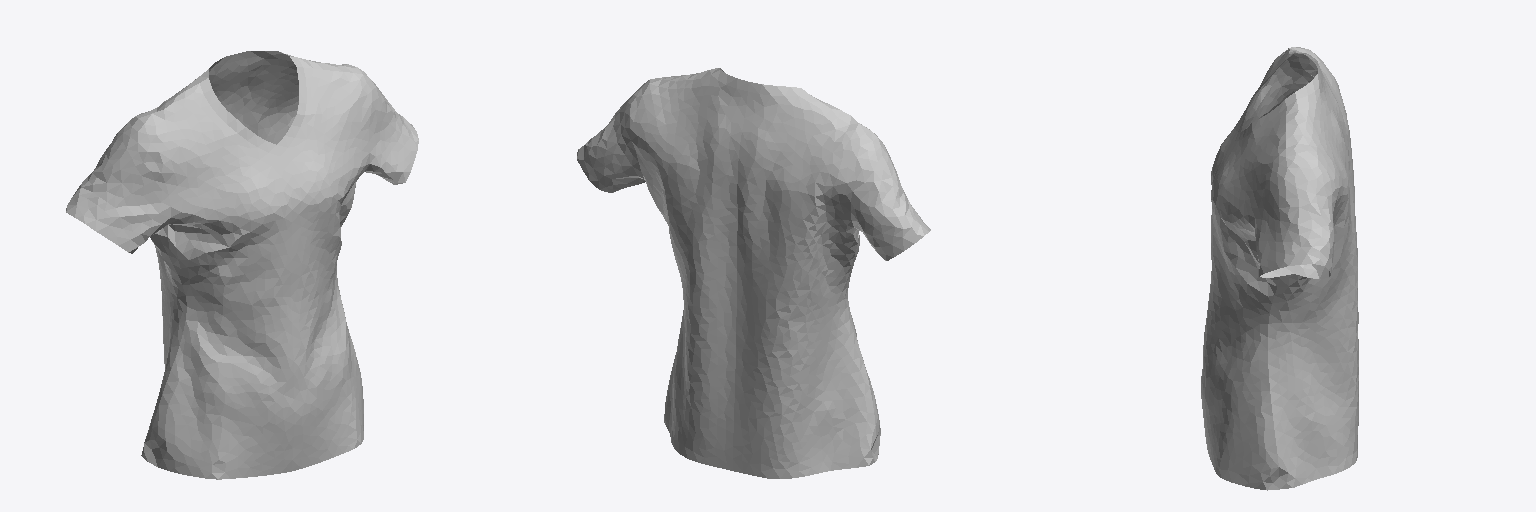
File: vest.obj
3 renders of one model, left to right at view 1: azimuth 30°, elevation 25°; view 2: azimuth 150°, elevation 25°; view 3: azimuth 270°, elevation 25°, orthographic.
Bounding box in the file's own units: 581 × 605 × 230.